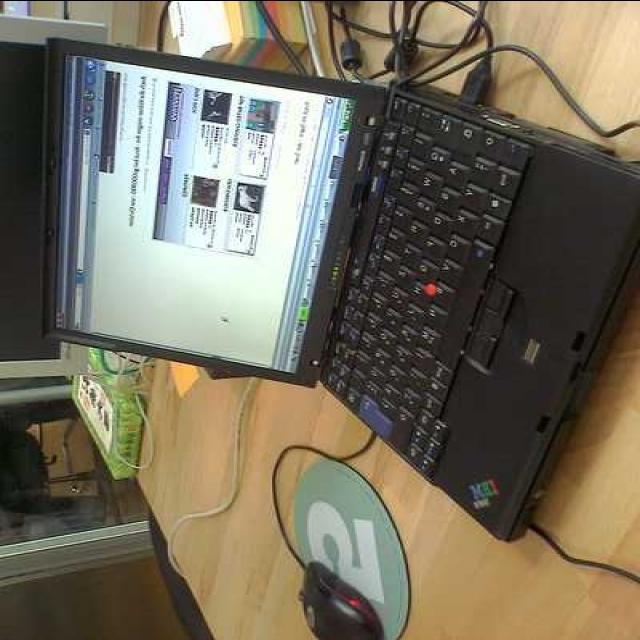laptop: (43, 57, 608, 520)
